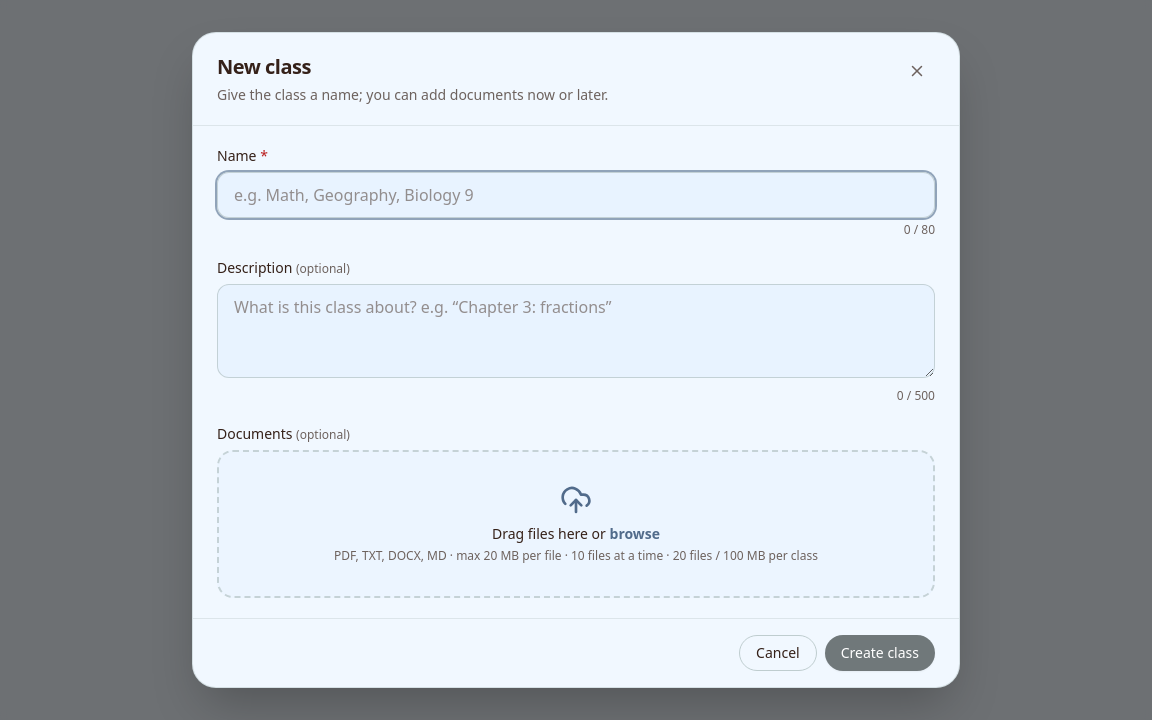
Test case: NewTopicModal › requires a name
This screenshot has width=1152, height=720.
Click the button "Create class".
click(880, 653)  # box [825,635,935,671]
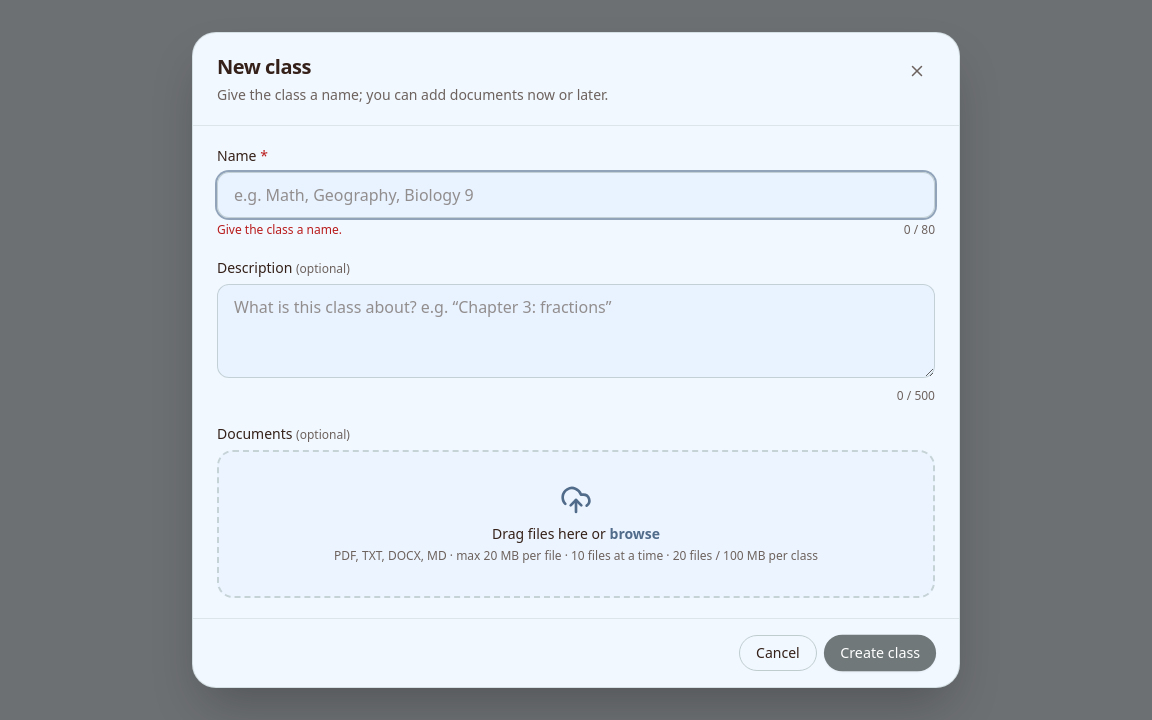
Now the text "Give the class a name." is shown, box [217,222,342,238]
